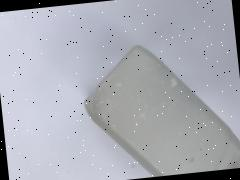plastic: (51, 26, 240, 180)
